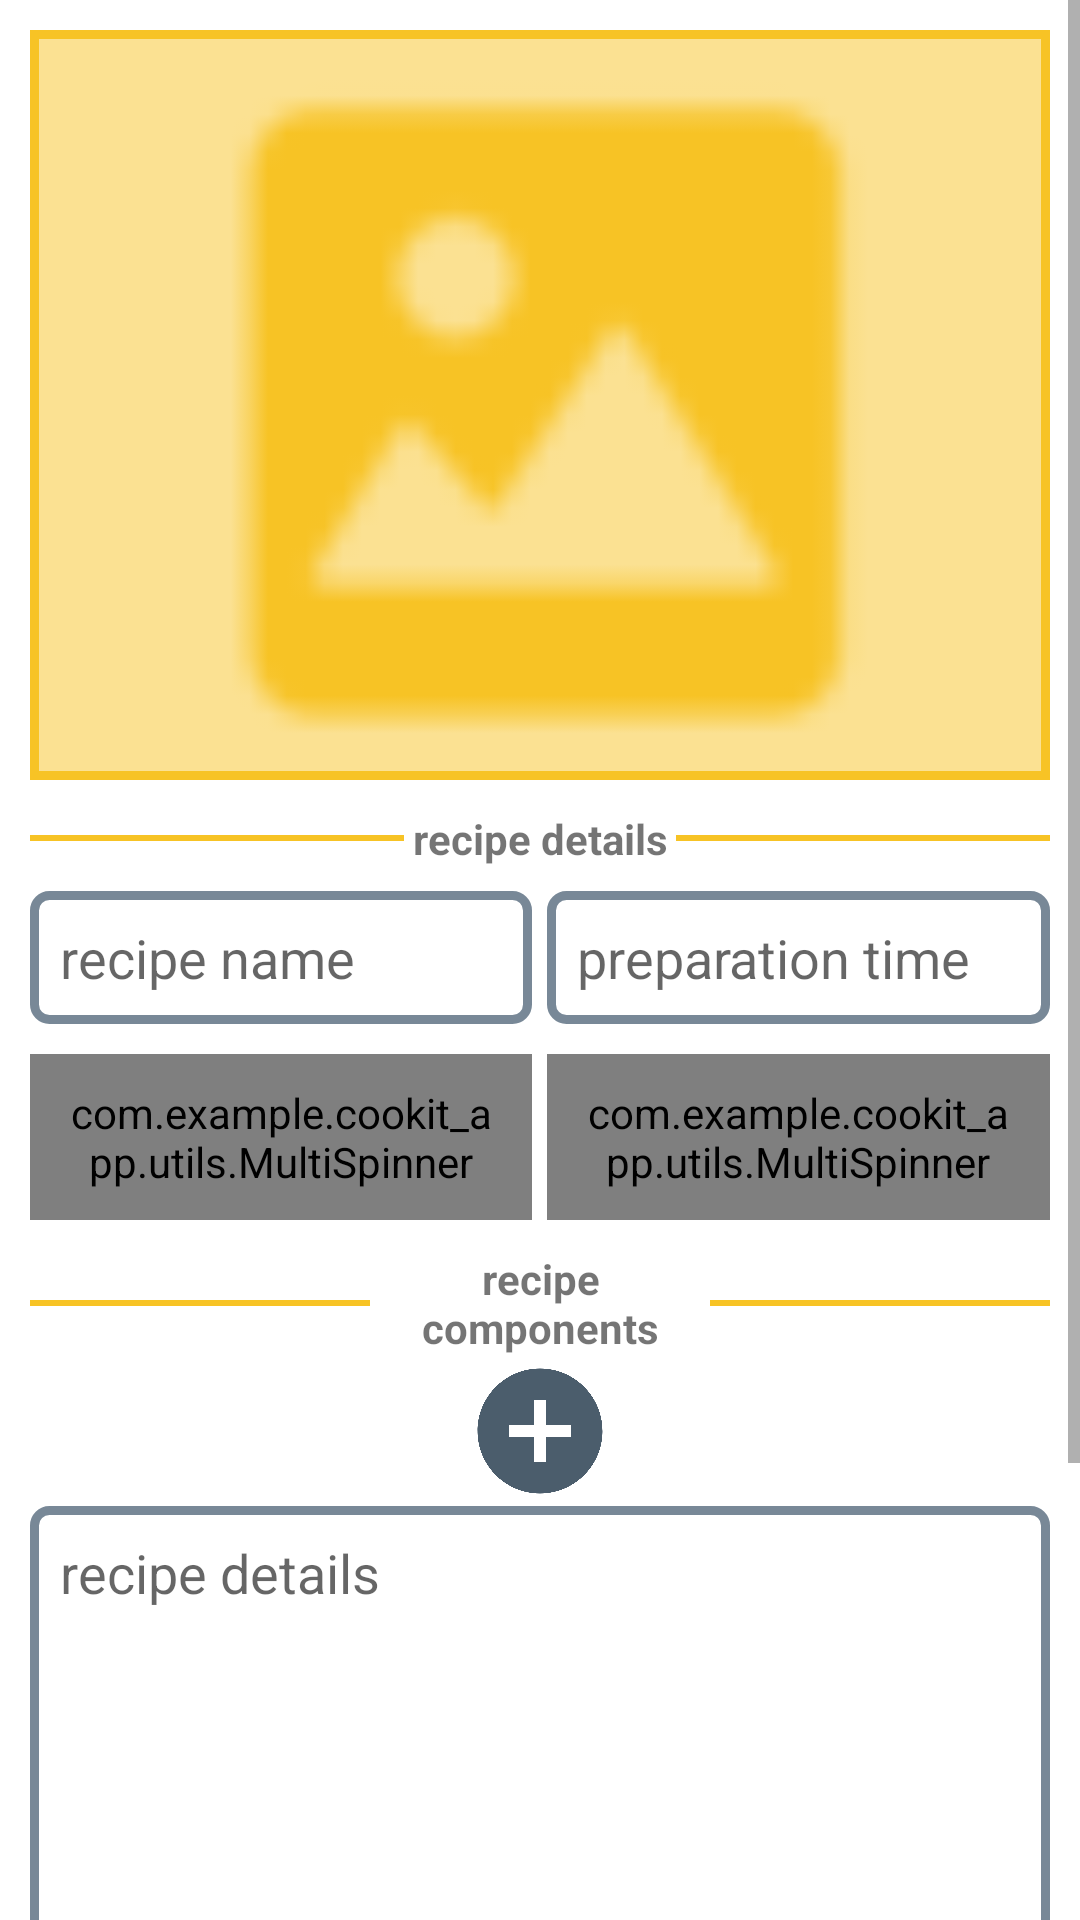

Screen size 1080x1920. Icon name, then its box in pixels as BBox(x1, y1, x2, y2):
add: BBox(477, 1368, 603, 1494)
